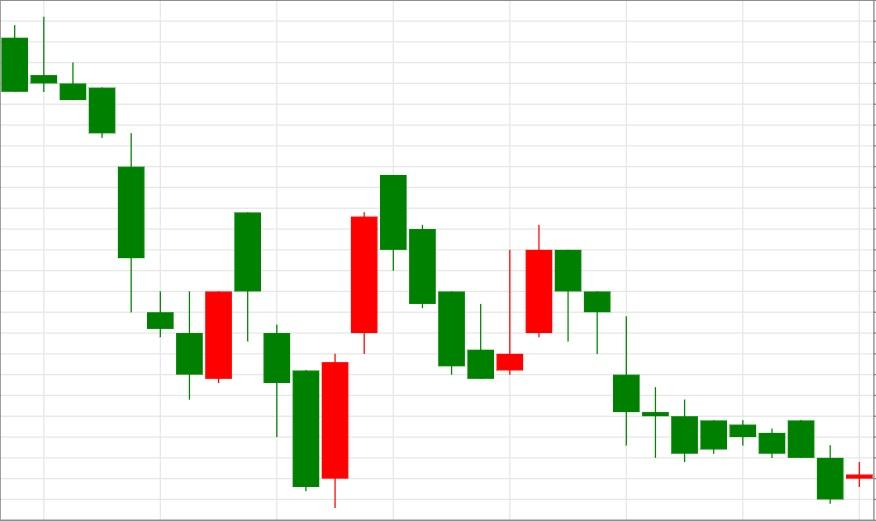bullish_engulfing_rise: (233, 212, 350, 509)
